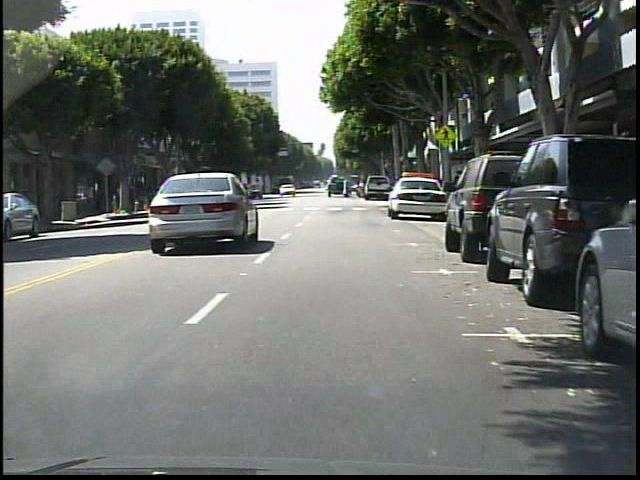person: (87, 179, 97, 211), (117, 183, 126, 210), (346, 176, 347, 197)
